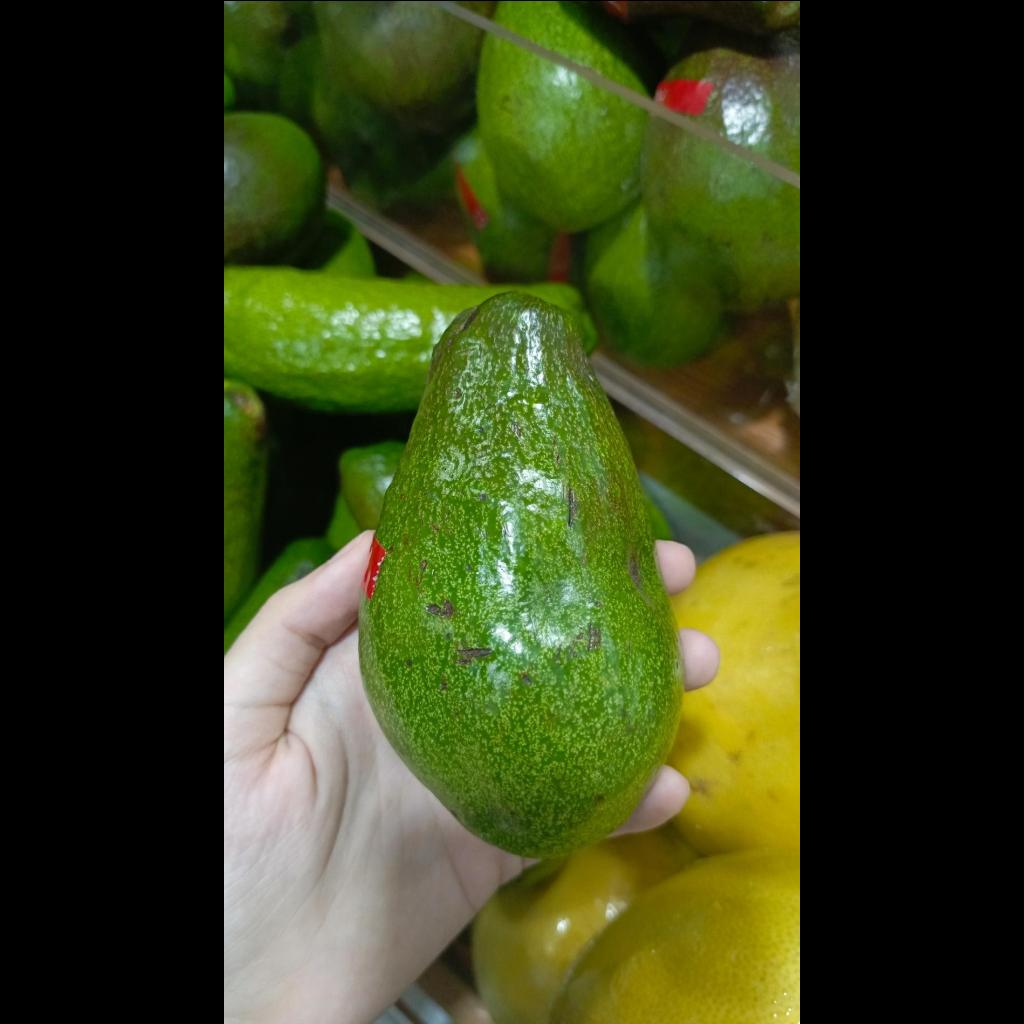healthy: (360, 291, 683, 857)
